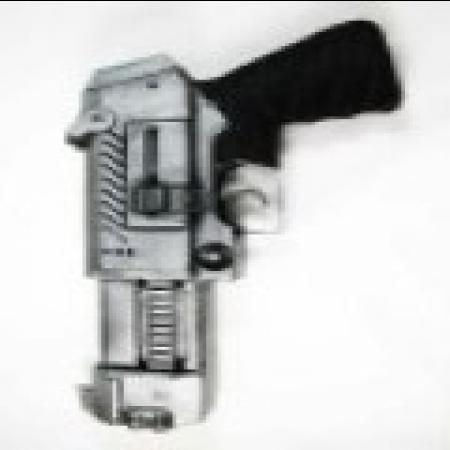Pistol: (71, 20, 398, 430)
